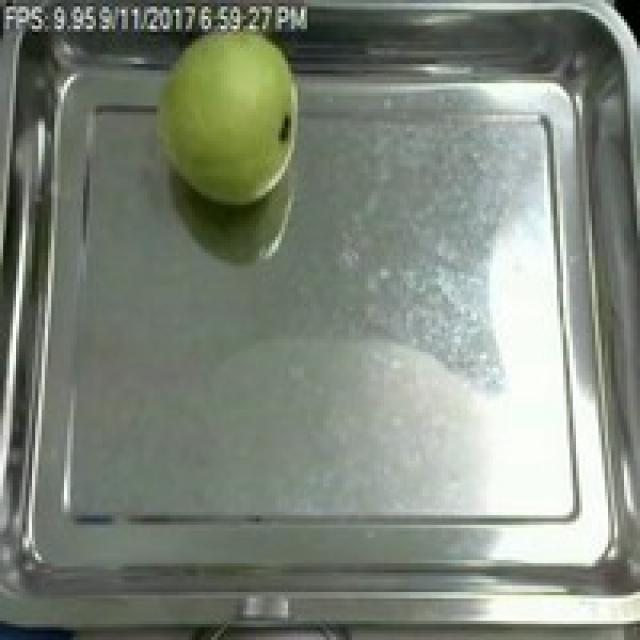Fruit: (144, 7, 310, 215)
